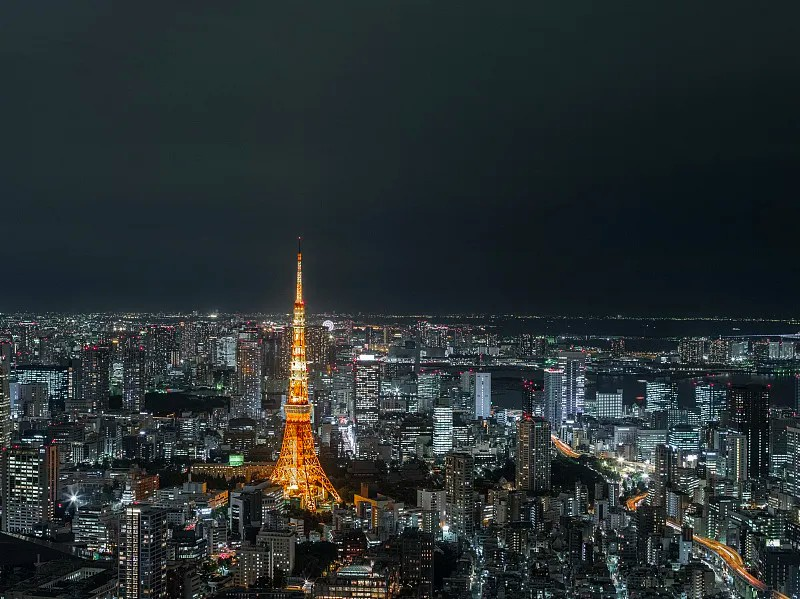Tokyo: (268, 232, 339, 511)
